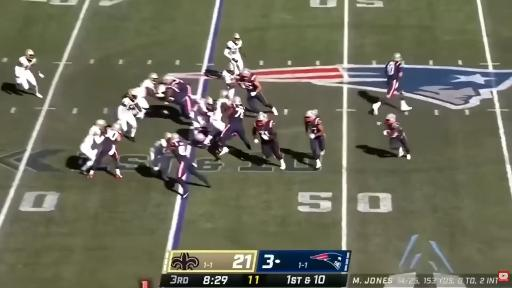Helmet: (384, 114, 399, 125), (256, 113, 268, 126), (305, 110, 318, 122), (125, 90, 138, 101), (206, 96, 214, 109), (390, 53, 403, 61), (219, 89, 229, 99), (241, 68, 250, 79), (170, 133, 181, 142), (228, 62, 236, 74), (233, 96, 243, 105), (96, 120, 105, 129), (26, 50, 34, 60), (112, 123, 122, 131), (162, 76, 173, 83), (234, 33, 241, 44), (164, 132, 171, 143), (149, 73, 158, 81)
Jersey: (253, 120, 276, 143), (166, 140, 189, 162), (150, 139, 170, 160), (211, 98, 229, 121), (172, 81, 191, 101), (102, 129, 120, 150), (305, 118, 324, 136), (239, 73, 257, 92), (83, 126, 101, 145), (385, 120, 404, 137), (385, 61, 401, 80), (229, 104, 245, 123), (225, 40, 242, 57), (140, 79, 156, 97), (119, 97, 136, 113), (197, 98, 213, 115), (17, 56, 34, 68), (222, 70, 235, 84)
Player: (166, 134, 210, 197), (219, 96, 251, 155), (88, 123, 122, 178), (238, 69, 277, 115), (253, 113, 285, 169), (385, 53, 411, 111), (80, 120, 106, 173), (204, 91, 229, 145), (15, 50, 42, 97), (118, 90, 141, 141), (384, 114, 410, 159), (305, 110, 325, 168), (133, 73, 158, 118), (166, 76, 192, 119), (150, 133, 172, 180), (224, 33, 243, 74), (131, 87, 149, 118), (222, 63, 237, 98), (140, 73, 158, 96)
